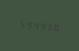five: (17, 18, 23, 29)
four: (32, 19, 38, 30)
nine: (24, 18, 30, 30), (39, 19, 45, 31)
three: (46, 20, 52, 32)
zero: (53, 21, 59, 32)
